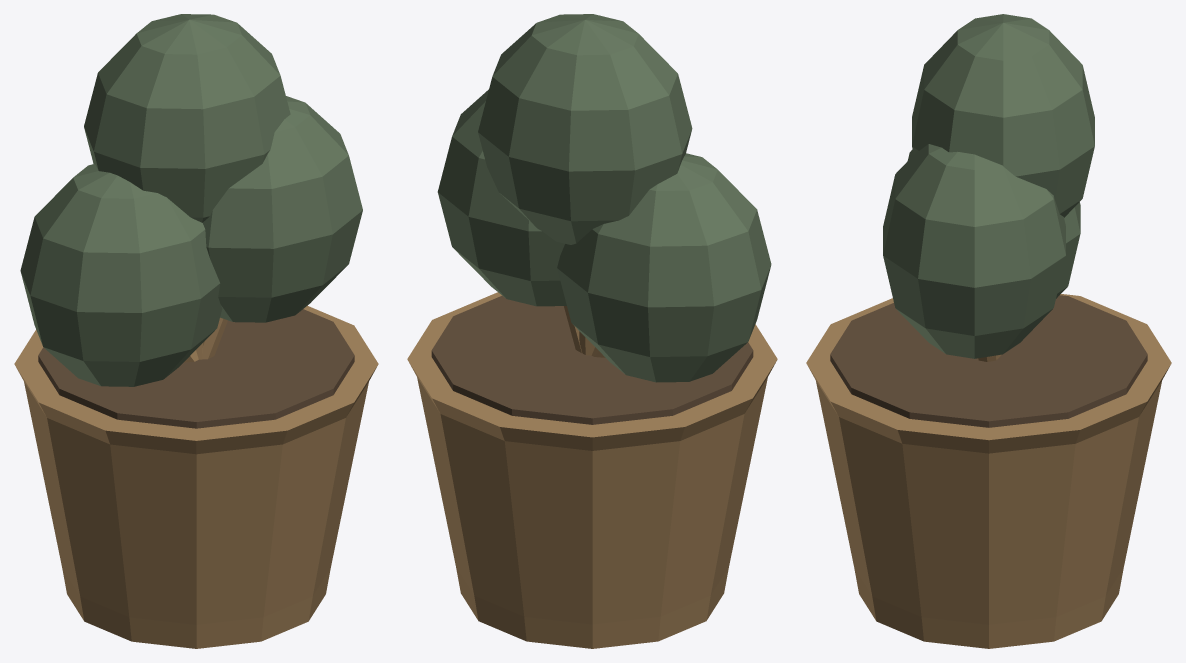
The model's file is planter.glb.
3 renders of one model, left to right at view 1: azimuth 30°, elevation 25°; view 2: azimuth 150°, elevation 25°; view 3: azimuth 270°, elevation 25°, orthographic.
Parts seen in each view (by area): view 1: planter; view 2: planter; view 3: planter.
Part boxes in pixels (box(x1,y1,x2,y2)): planter: box(14, 14, 378, 648); planter: box(407, 14, 777, 648); planter: box(806, 14, 1171, 648).
Bounding box in the file's own units: 0.78 × 1.31 × 0.76.
